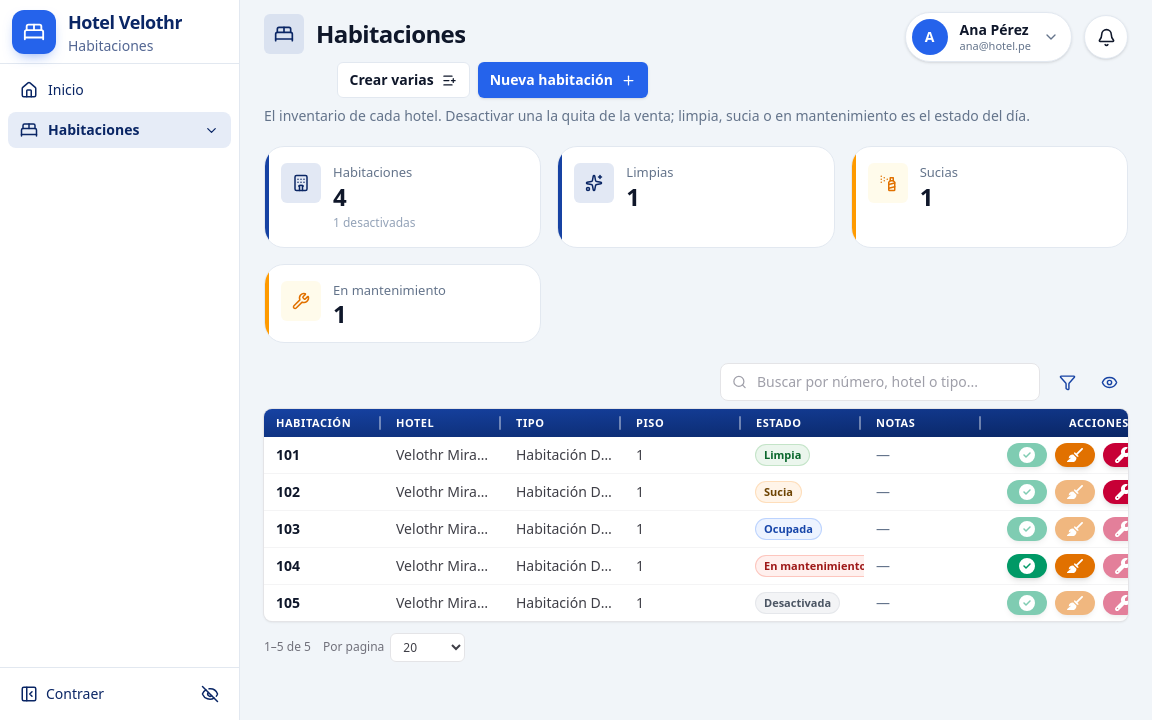
it: Habitaciones › un número vacío avisa sin ir al servidor
Step 1. Click the button "Nueva habitación" → (563, 80), box [478, 62, 648, 98]
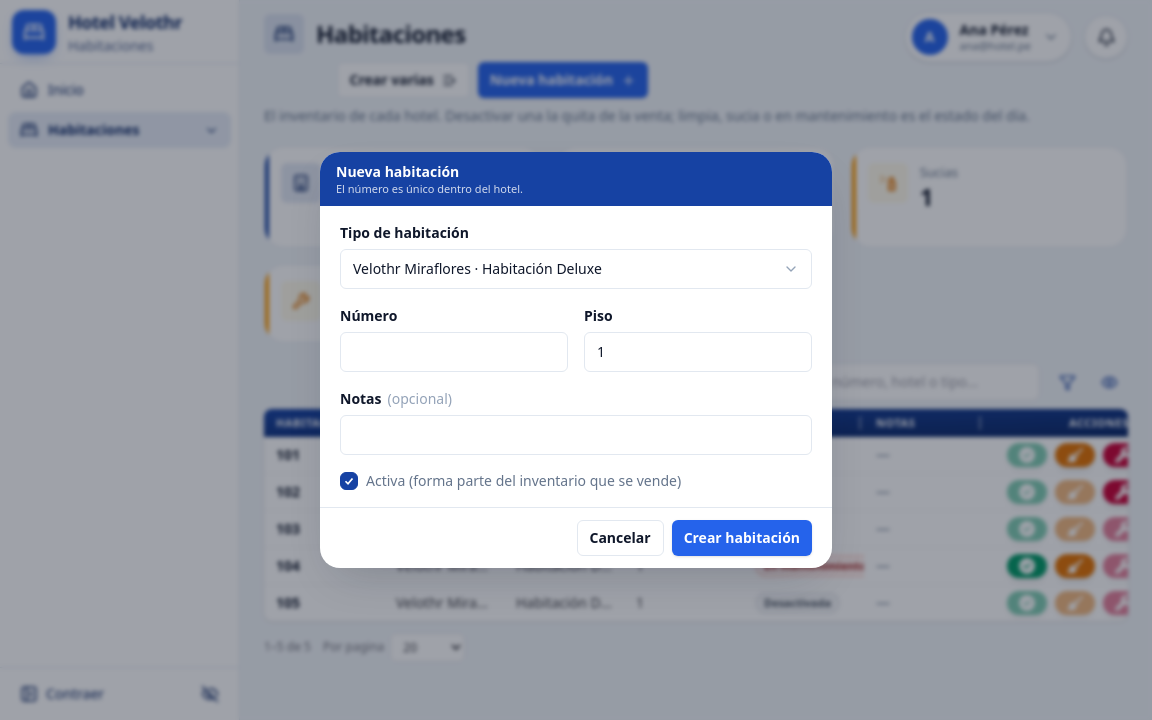
Step 2. Click the button "Crear habitación" → (742, 538), box [672, 520, 812, 556]
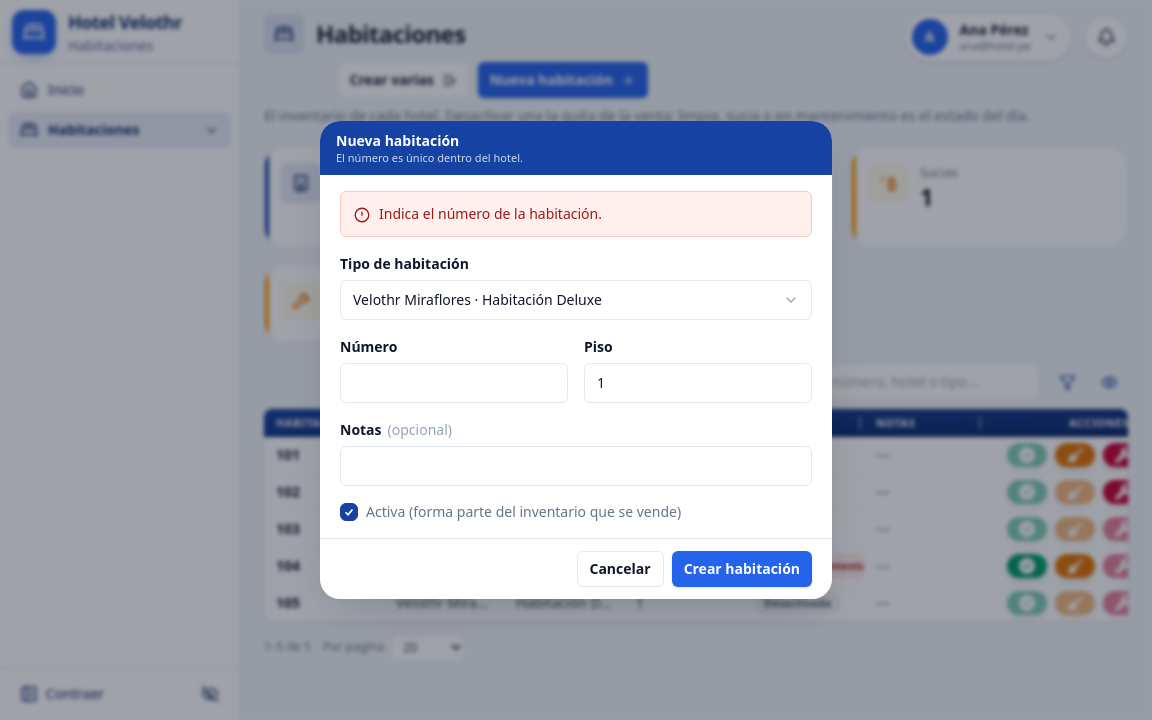
Now the text "Indica el número de la habitación." is shown, box [379, 204, 602, 224]
